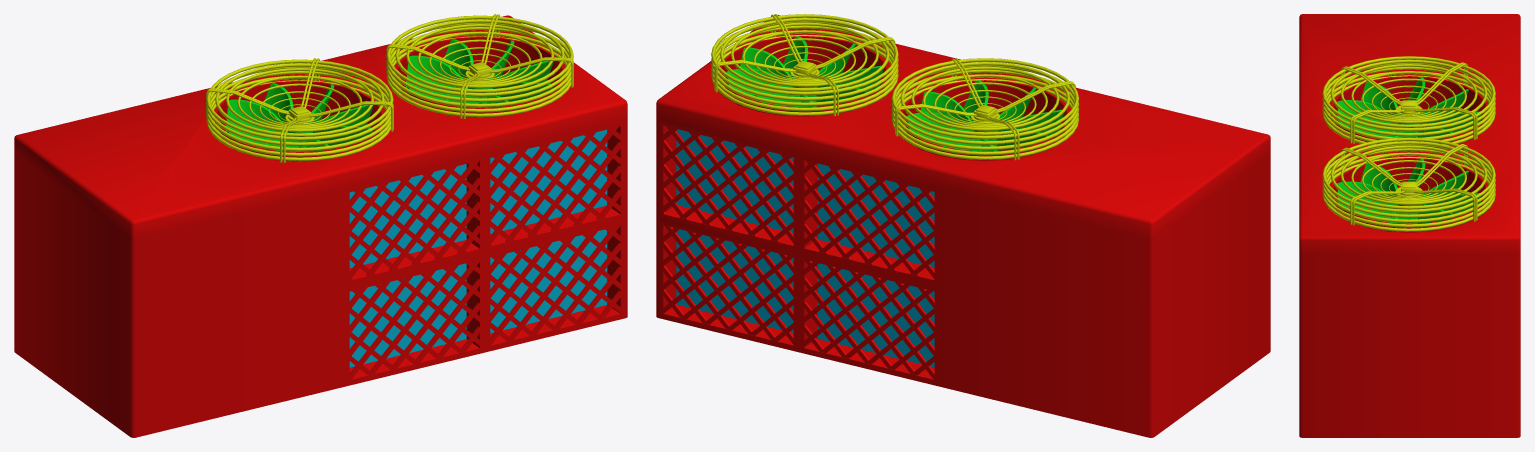
The model's file is Thermal.fbx.
3 renders of one model, left to right at view 1: azimuth 30°, elevation 25°; view 2: azimuth 150°, elevation 25°; view 3: azimuth 270°, elevation 25°, orthographic. The views are drawn at different scales.
Parts seen in each view (by area): view 1: Thermal_004; view 2: Thermal_004; view 3: Thermal_004.
Boxes of the visible parts, bbox=[...] form: Thermal_004: bbox=[14, 14, 627, 437]; Thermal_004: bbox=[656, 14, 1270, 437]; Thermal_004: bbox=[1299, 14, 1520, 437].
Bounding box in the file's own units: 94.49 × 44.35 × 39.37.
